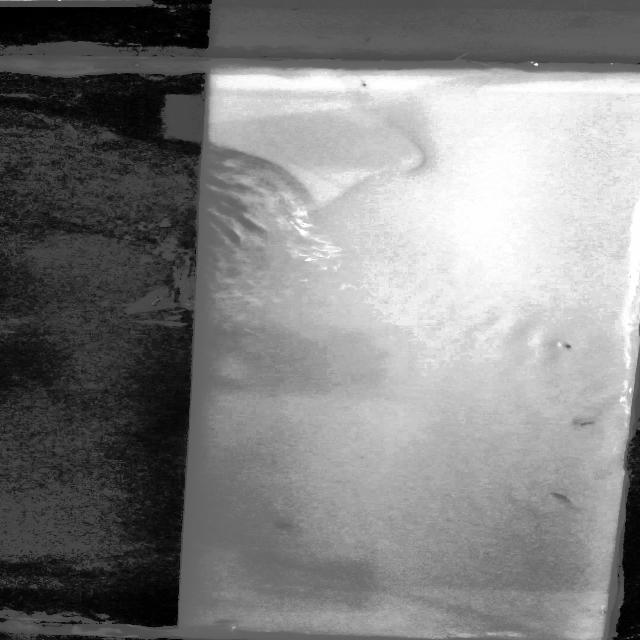shrimp: (554, 335, 582, 357), (546, 488, 584, 502), (568, 416, 603, 430), (268, 518, 304, 531)
